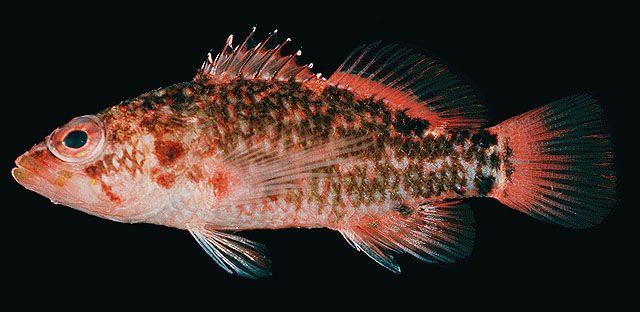fish: (11, 25, 615, 279)
